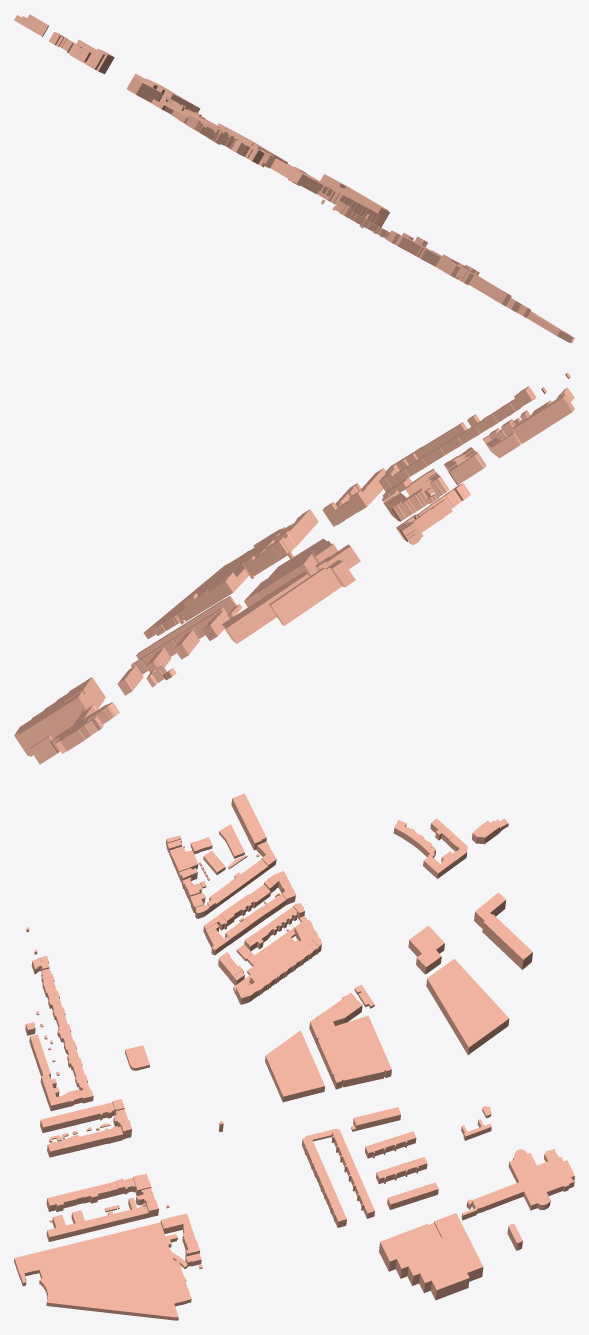
3 renders of one model, top to bottom at view 1: azimuth 30°, elevation 25°; view 2: azimuth 150°, elevation 25°; view 3: azimuth 270°, elevation 25°, orthographic. The views are drawn at different scales.
Size of the model in its own units: 572 by 445 by 679.
